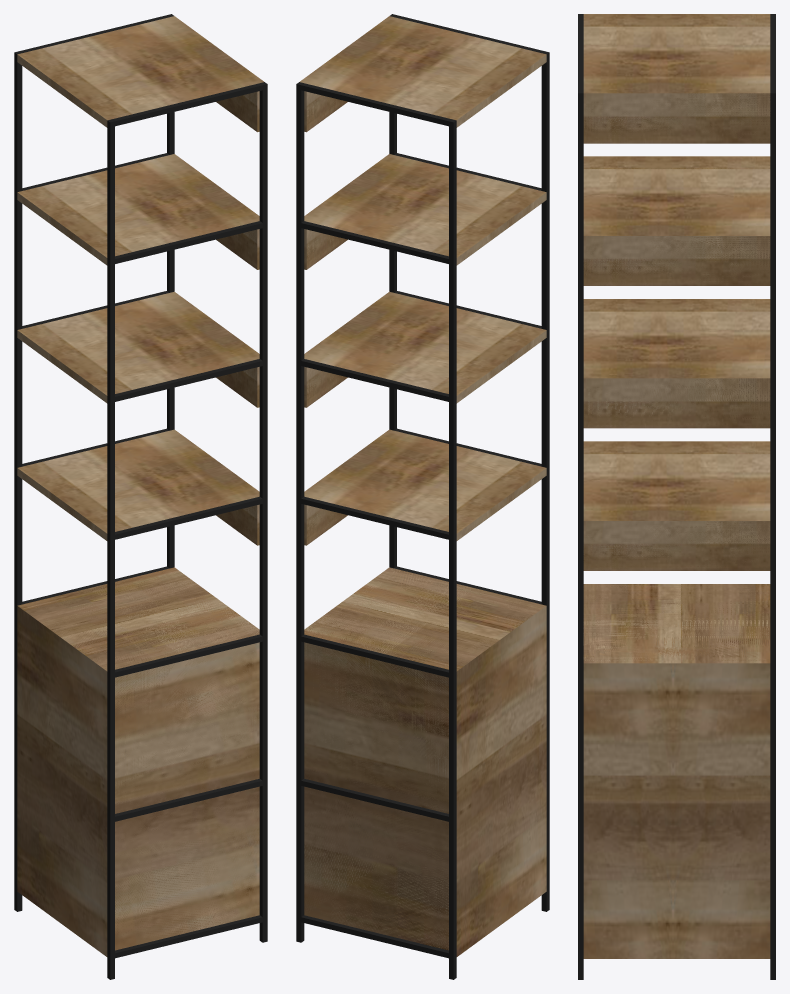
File: IndustrialModular17OpenClosedStorageWestElm.dae
3 renders of one model, left to right at view 1: azimuth 30°, elevation 25°; view 2: azimuth 150°, elevation 25°; view 3: azimuth 270°, elevation 25°, orthographic. The views are drawn at different scales.
Visible parts, largest first — view 1: SketchUp (×5), Group_113 (×4), Group_442 (×7); view 2: SketchUp (×5), Group_113 (×4), Group_442 (×7); view 3: SketchUp (×5), Group_113 (×2), Group_442 (×2).
Boxes of the visible parts, x1,y1,x2,y2 form: SketchUp (×5): [17, 16, 263, 956]; Group_113 (×4): [14, 14, 267, 979]; Group_442 (×7): [112, 83, 262, 958]; SketchUp (×5): [300, 16, 546, 956]; Group_113 (×4): [296, 14, 549, 979]; Group_442 (×7): [301, 83, 451, 958]; SketchUp (×5): [583, 14, 770, 958]; Group_113 (×2): [578, 91, 775, 979]; Group_442 (×2): [578, 16, 775, 90].
Bounding box in the file's own units: 16.13 × 17 × 84.
2 materials, 1 textured.
